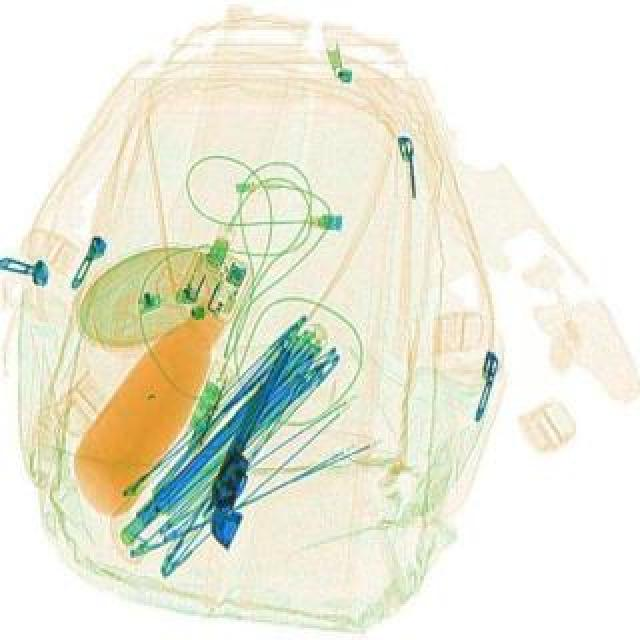gun: (192, 350, 310, 558)
